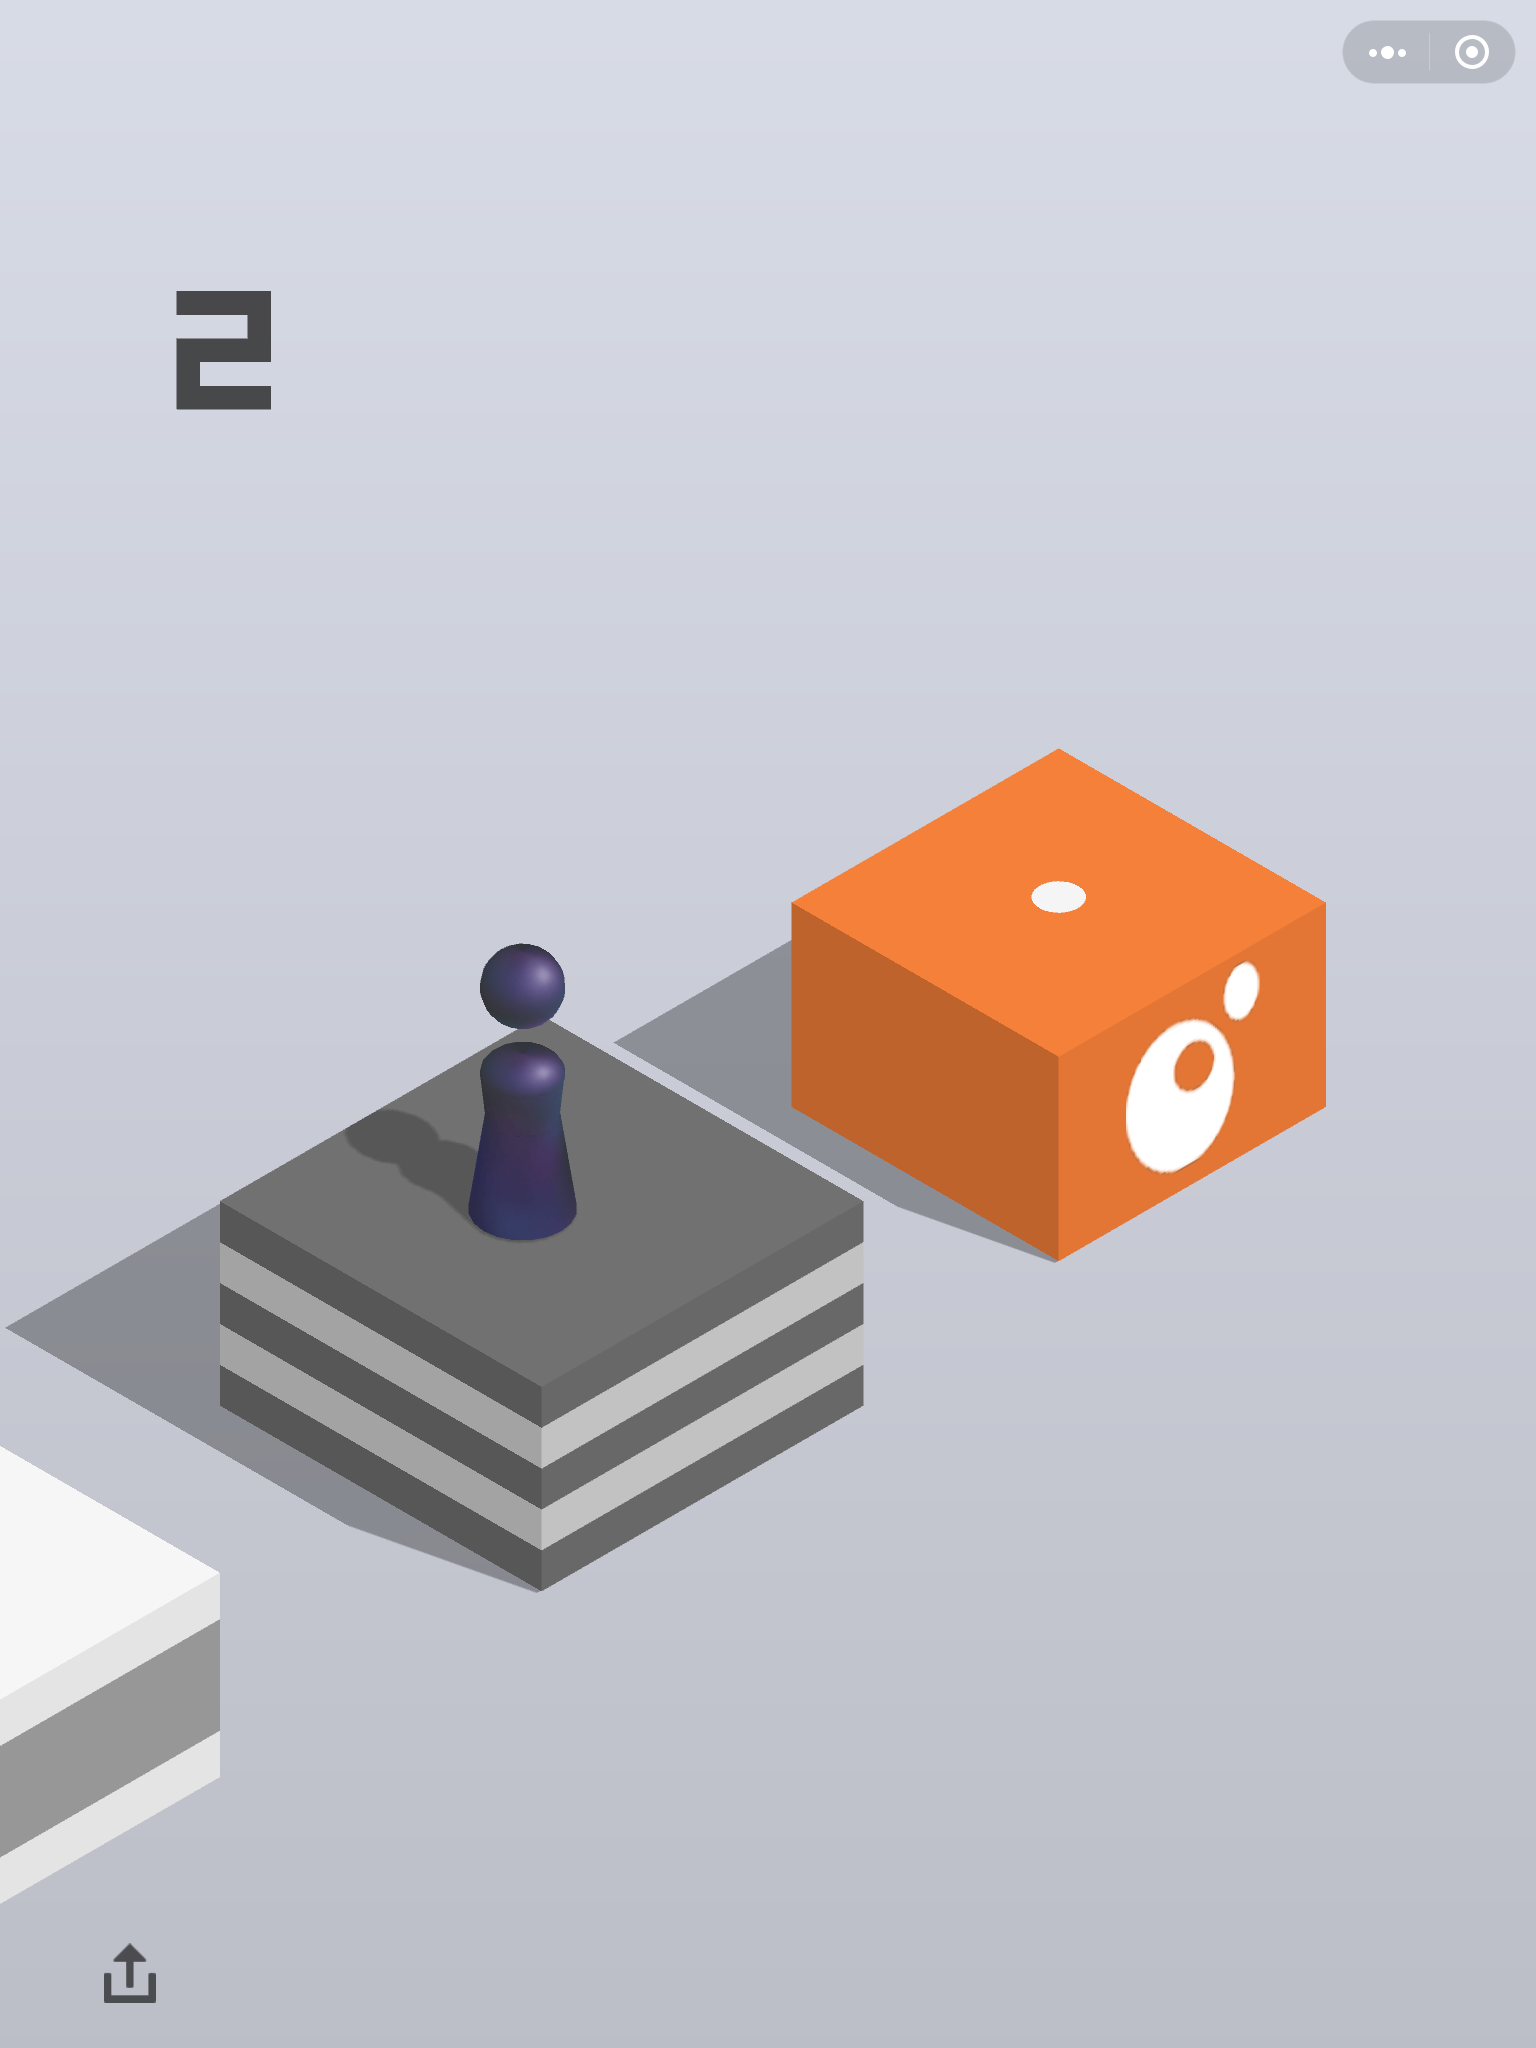f: (210, 1018, 873, 1600), (783, 747, 1341, 1276), (2, 1422, 227, 1909)
r: (466, 935, 586, 1247)
